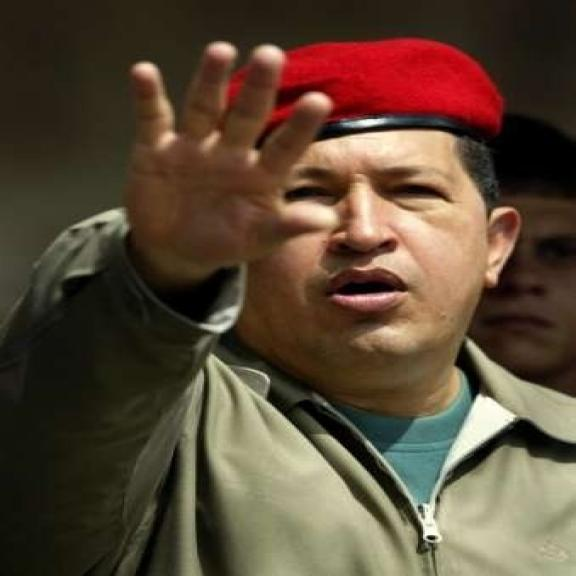face: (253, 125, 535, 394)
